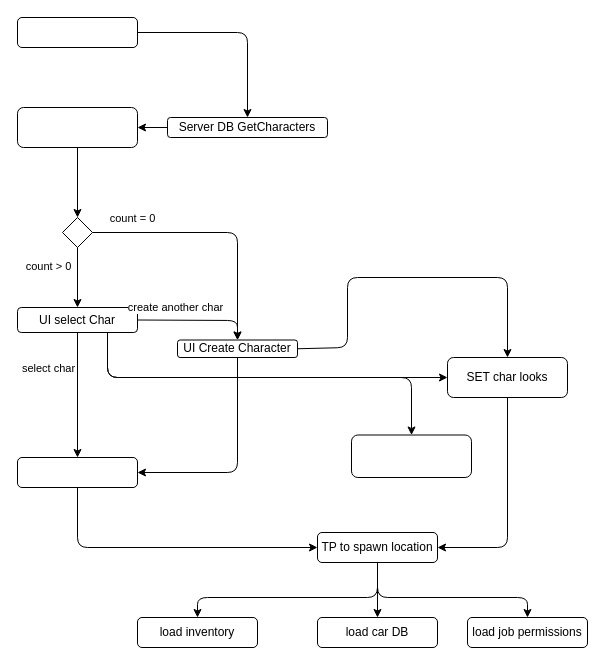
The diagram is 605 pixels wide and 665 high, and some of its shapes have lost their labels. The box of each missing label's shape, as (x1, y1, x2, y2) in pixels:
Login Event: (16, 16, 138, 48)
Select Character Event: (16, 106, 138, 148)
Set base stats (money): (350, 434, 472, 478)
UI spawnmap event: (16, 456, 138, 488)
